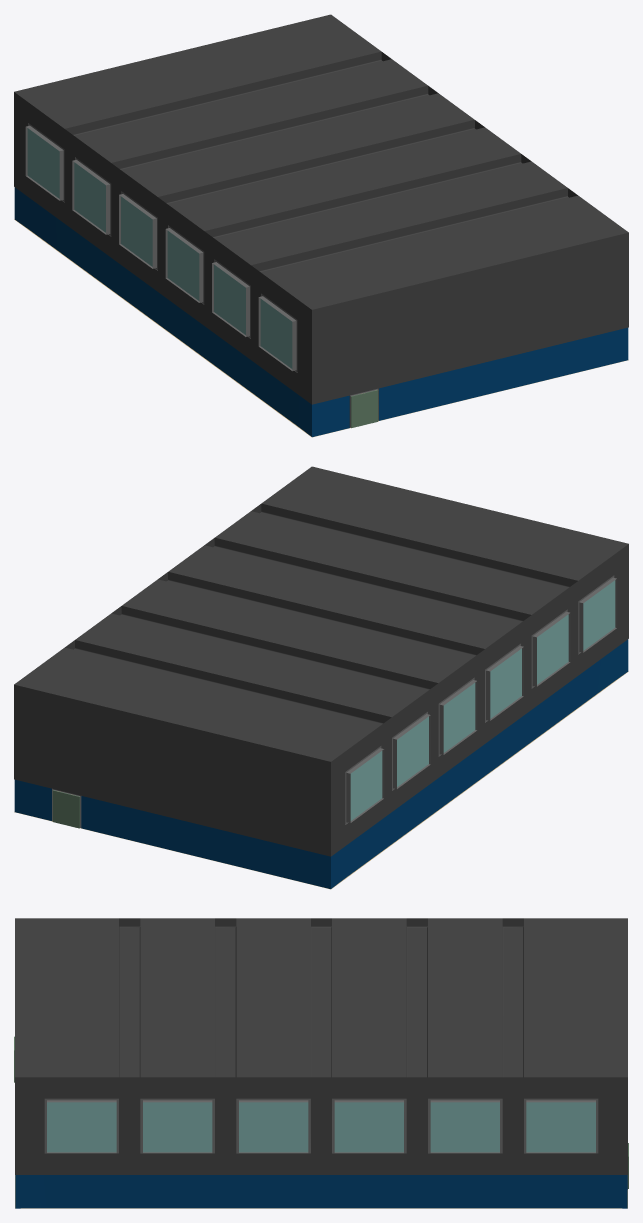
The model's file is court.fbx.
3 views of the same model, one above another, from view 1: azimuth 30°, elevation 25°; view 2: azimuth 150°, elevation 25°; view 3: azimuth 270°, elevation 25° (orthographic). The views are drawn at different scales.
Visible parts, largest first — view 1: ceiling, walls, padding1, window_glass1, window_glass4, window_glass6, window_glass5, window_glass3, window_glass2, window_frame4, window_frame1, window_frame3 (+4 smaller); view 2: ceiling, walls, padding1, window_glass6, window_glass2, window_glass1, window_glass5, window_glass4, window_glass3, window_frame2, window_frame6, window_frame5 (+4 smaller); view 3: ceiling, walls, padding1, window_glass7, window_glass12, window_glass8, window_glass9, window_glass10, window_glass11, window_frame8, window_frame9, window_frame10 (+4 smaller).
Part boxes in pixels (box(x1,y1,x2,y2)): ceiling: box(14, 14, 628, 309); walls: box(14, 52, 628, 404); padding1: box(14, 187, 628, 437); window_glass1: box(27, 128, 59, 198); window_glass4: box(167, 231, 199, 300); window_glass6: box(260, 299, 292, 368); window_glass5: box(214, 264, 245, 334); window_glass3: box(74, 162, 105, 232); window_glass2: box(121, 196, 152, 266); window_frame4: box(72, 157, 111, 236); window_frame1: box(258, 293, 297, 372); window_frame3: box(165, 225, 204, 304); ceiling: box(14, 466, 628, 761); walls: box(14, 504, 628, 856); padding1: box(14, 639, 628, 889); window_glass6: box(583, 580, 615, 650); window_glass2: box(443, 683, 475, 752); window_glass1: box(350, 751, 382, 820); window_glass5: box(537, 614, 568, 684); window_glass4: box(490, 648, 521, 718); window_glass3: box(397, 716, 428, 786); window_frame2: box(531, 609, 570, 688); window_frame6: box(345, 745, 384, 824); window_frame5: box(438, 677, 477, 756); ceiling: box(15, 918, 627, 1077); walls: box(15, 918, 627, 1174); padding1: box(15, 1175, 627, 1208); window_glass7: box(526, 1102, 595, 1152); window_glass12: box(47, 1102, 116, 1152); window_glass8: box(430, 1102, 499, 1152); window_glass9: box(334, 1102, 403, 1152); window_glass10: box(143, 1102, 212, 1152); window_glass11: box(239, 1102, 308, 1152); window_frame8: box(236, 1098, 310, 1153); window_frame9: box(140, 1098, 214, 1153); window_frame10: box(332, 1098, 406, 1153).
Size of the model in its own units: 2180 by 819 by 3475.
